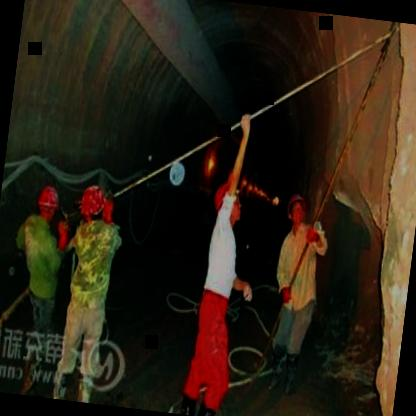helmet: (211, 177, 245, 222), (76, 184, 110, 229), (281, 186, 312, 228), (32, 180, 62, 222)
